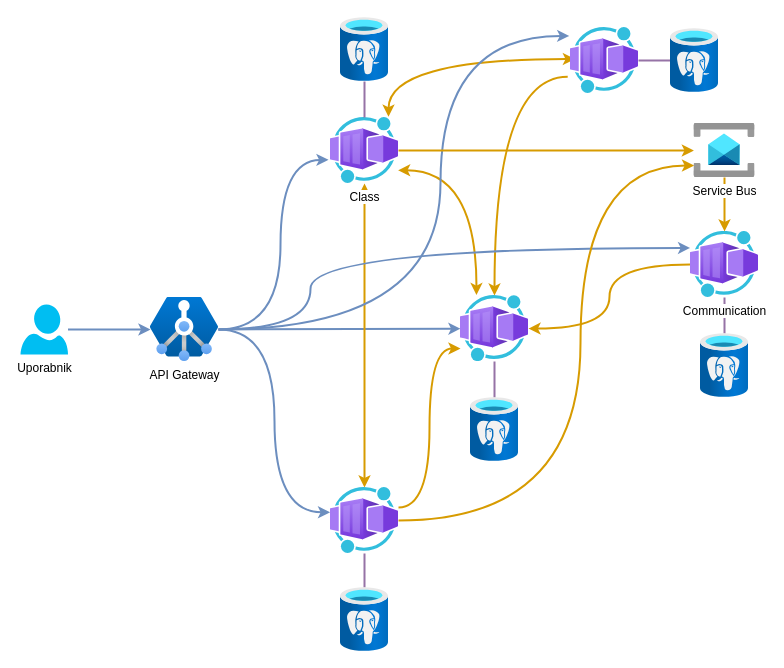
This 784x668 diagram has some shape labels left out. Here are the shapes that lost their labels. From the top down, the centre of each, then its label:
point 604,60: Schedule
point 494,328: Users
point 364,520: Classroom
